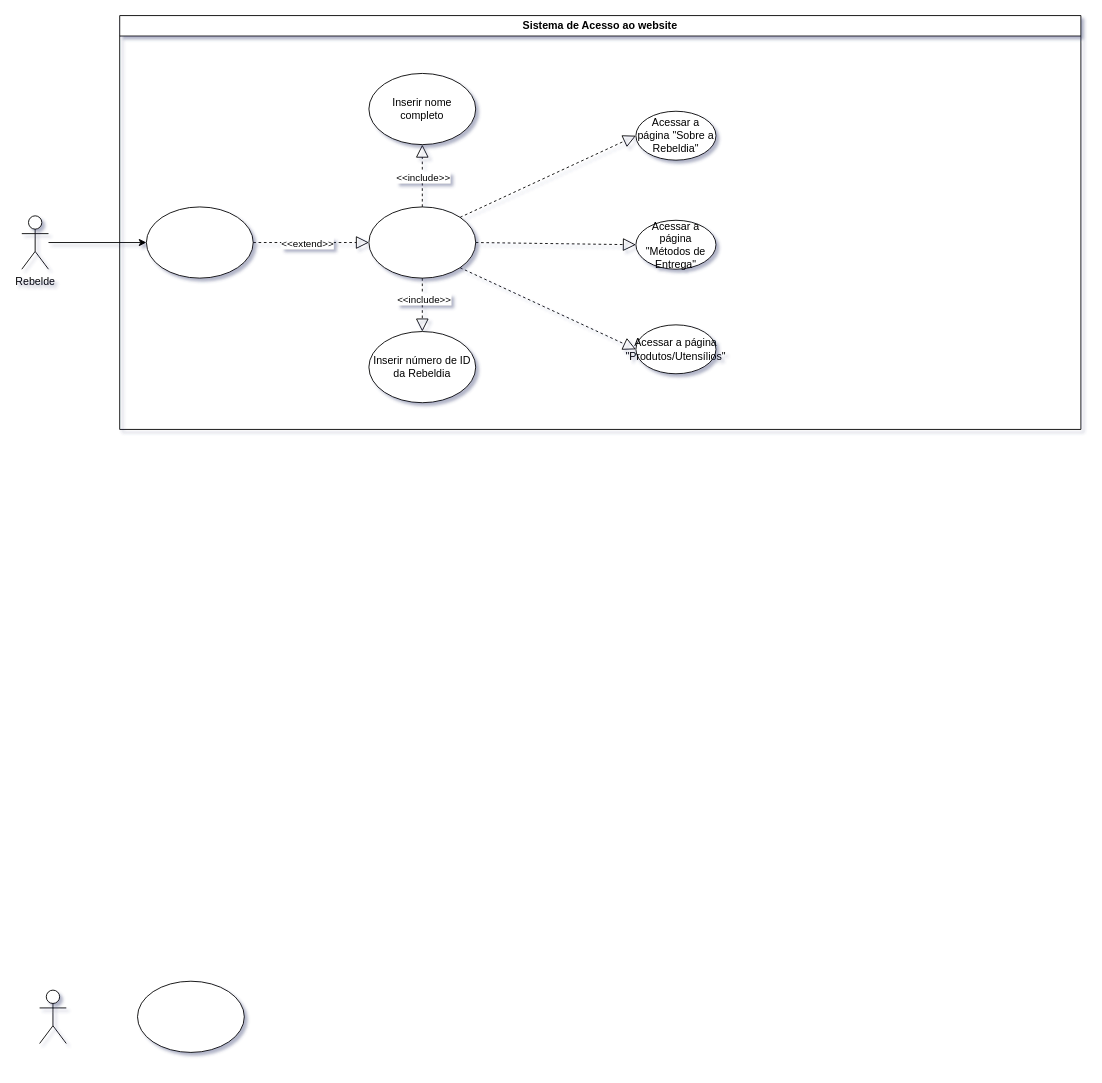
The diagram is 1102 pixels wide and 1083 high, and some of its shapes have lost their labels. The shapes that lost their labels are listed below. From the top down, each one's centre as x and y in pixels, then its label:
point (199, 242): Acessar a página inicial
point (422, 242): Fazer login
point (52, 1016): Actor
